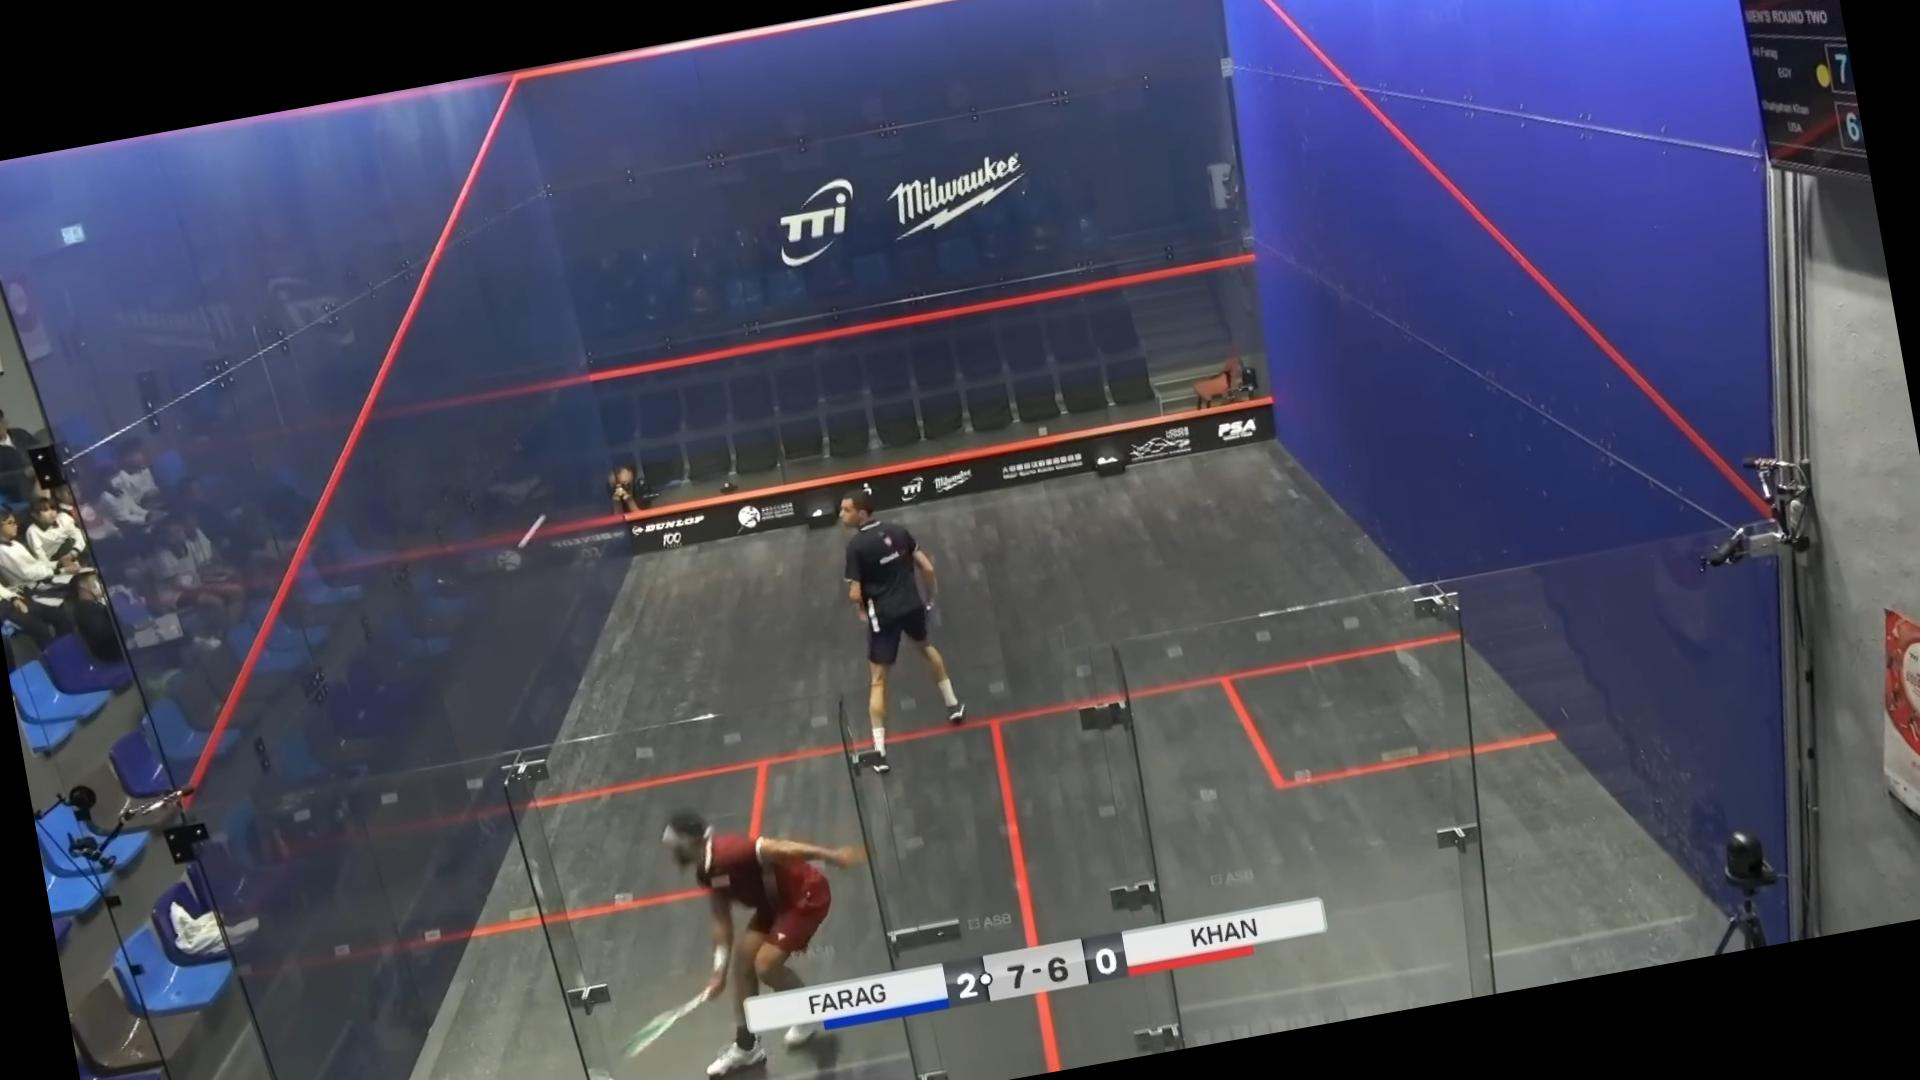Racket: (609, 978, 724, 1065)
